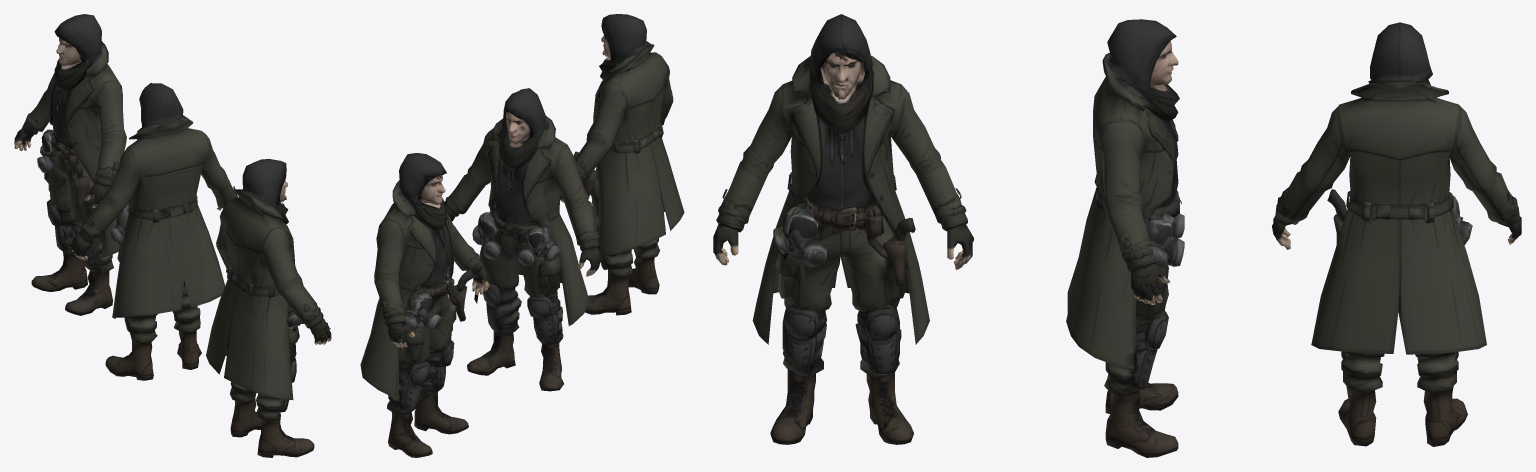
3 views of the same model, side by side, from view 1: azimuth 30°, elevation 25°; view 2: azimuth 150°, elevation 25°; view 3: azimuth 270°, elevation 25° (orthographic). The views are drawn at different scales.
Visible parts, largest first — view 1: tripo_node_6ec2cce9-54de-433f-bcd5-8c4d1faa0430; view 2: tripo_node_6ec2cce9-54de-433f-bcd5-8c4d1faa0430; view 3: tripo_node_6ec2cce9-54de-433f-bcd5-8c4d1faa0430.
Boxes of the visible parts, bbox=[...] form: tripo_node_6ec2cce9-54de-433f-bcd5-8c4d1faa0430: bbox=[14, 14, 331, 457]; tripo_node_6ec2cce9-54de-433f-bcd5-8c4d1faa0430: bbox=[360, 14, 684, 457]; tripo_node_6ec2cce9-54de-433f-bcd5-8c4d1faa0430: bbox=[713, 14, 1521, 457].
Size of the model in its own units: 0.334 by 0.5566 by 0.998.
Materials: 1 (1 with a texture image).
